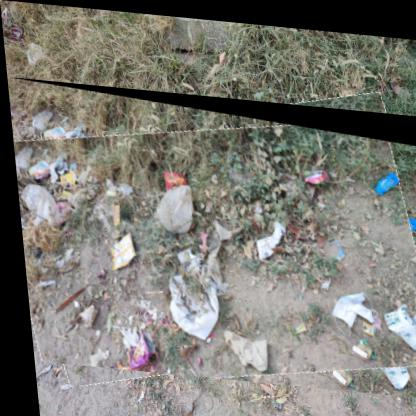Garbage: (6, 78, 416, 395)
